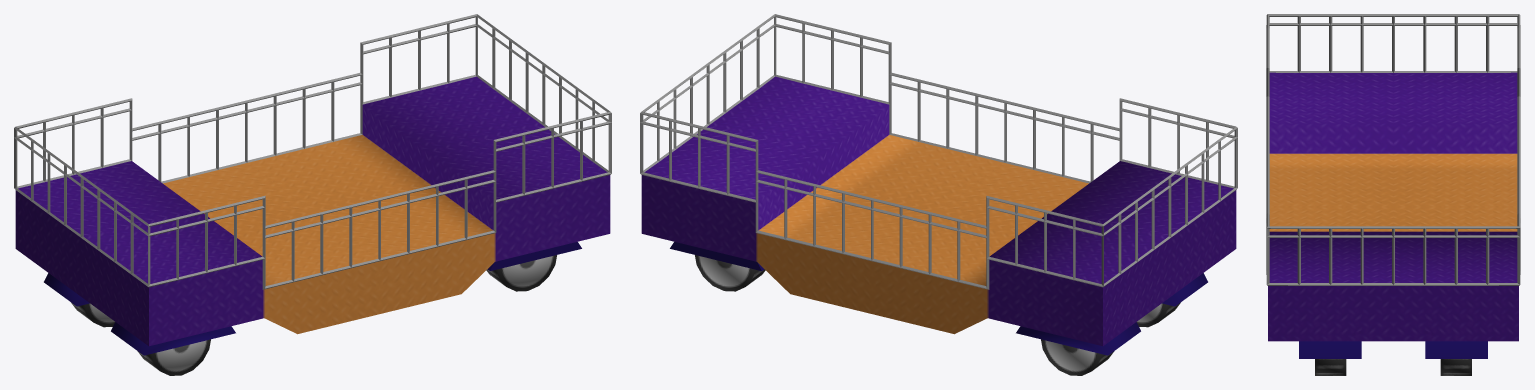
The model's file is palco.fbx.
The picture shows the model from 3 angles, left to right: view 1: azimuth 30°, elevation 25°; view 2: azimuth 150°, elevation 25°; view 3: azimuth 270°, elevation 25°; orthographic projection. The views are drawn at different scales.
Parts seen in each view (by area): view 1: palco01, grade; view 2: palco01, grade; view 3: palco01, grade.
Part boxes in pixels (box(x1,y1,x2,y2)): palco01: box(15, 76, 610, 375); grade: box(14, 14, 611, 289); palco01: box(641, 76, 1236, 375); grade: box(640, 14, 1237, 289); palco01: box(1268, 72, 1518, 375); grade: box(1266, 14, 1520, 285).
Size of the model in its own units: 805 by 305 by 405.
